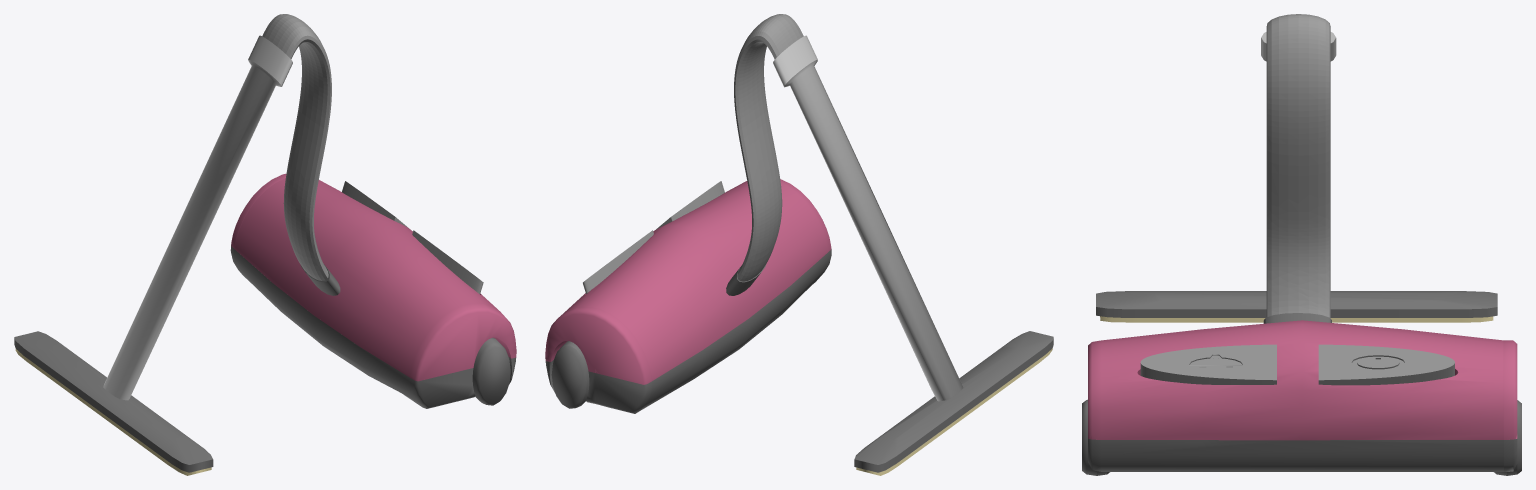
File: sh-contrib-aspirateur.glb
3 renders of one model, left to right at view 1: azimuth 30°, elevation 25°; view 2: azimuth 150°, elevation 25°; view 3: azimuth 270°, elevation 25°, orthographic. The views are drawn at different scales.
Parts seen in each view (by area): view 1: aspirateur_haut, roue_1, Cylinder_6, Tube, bouton_power, brosse; view 2: aspirateur_haut, roue_1, Cylinder_6, Tube, bouton_power, brosse; view 3: aspirateur_haut, roue_1, Tube, bouton_power, brosse.
Part boxes in pixels (left/top/right/bottom): aspirateur_haut: left=231, top=173, right=516, bottom=381; roue_1: left=14, top=245, right=515, bottom=472; Cylinder_6: left=103, top=35, right=292, bottom=400; Tube: left=262, top=14, right=331, bottom=280; bouton_power: left=342, top=181, right=483, bottom=293; brosse: left=15, top=349, right=211, bottom=475; aspirateur_haut: left=545, top=179, right=831, bottom=384; roue_1: left=545, top=249, right=1053, bottom=472; Cylinder_6: left=773, top=35, right=963, bottom=401; Tube: left=734, top=14, right=803, bottom=281; bouton_power: left=583, top=181, right=724, bottom=293; brosse: left=856, top=348, right=1052, bottom=475; aspirateur_haut: left=1088, top=320, right=1517, bottom=440; roue_1: left=1082, top=291, right=1521, bottom=475; Tube: left=1266, top=14, right=1330, bottom=318; bouton_power: left=1140, top=344, right=1454, bottom=385; brosse: left=1100, top=316, right=1493, bottom=322.
Size of the model in its own units: 1 by 1 by 1.
